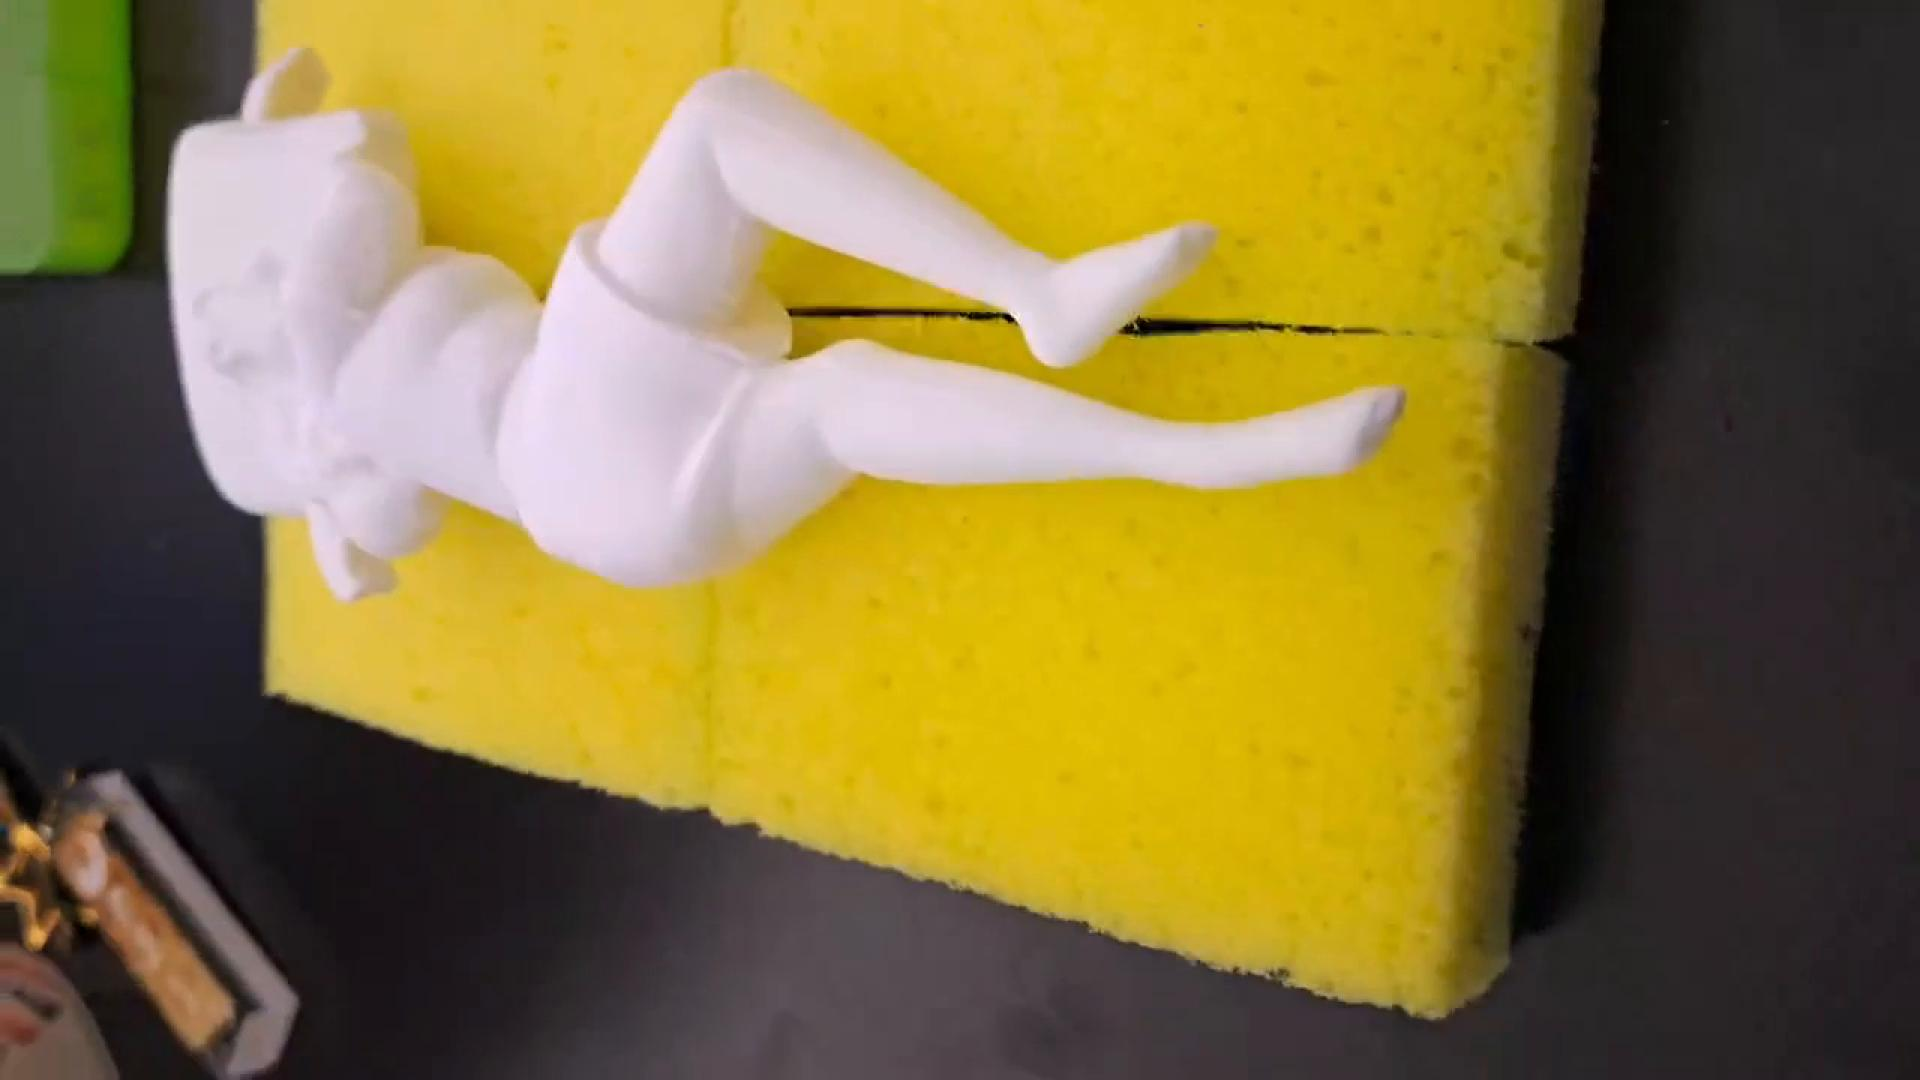Good-style: (160, 47, 1403, 612)
